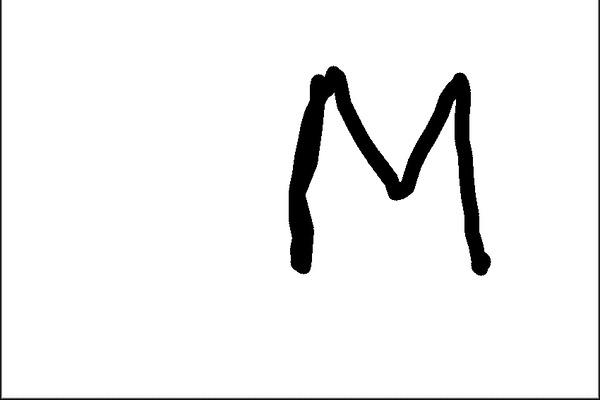M: (285, 61, 495, 281)
